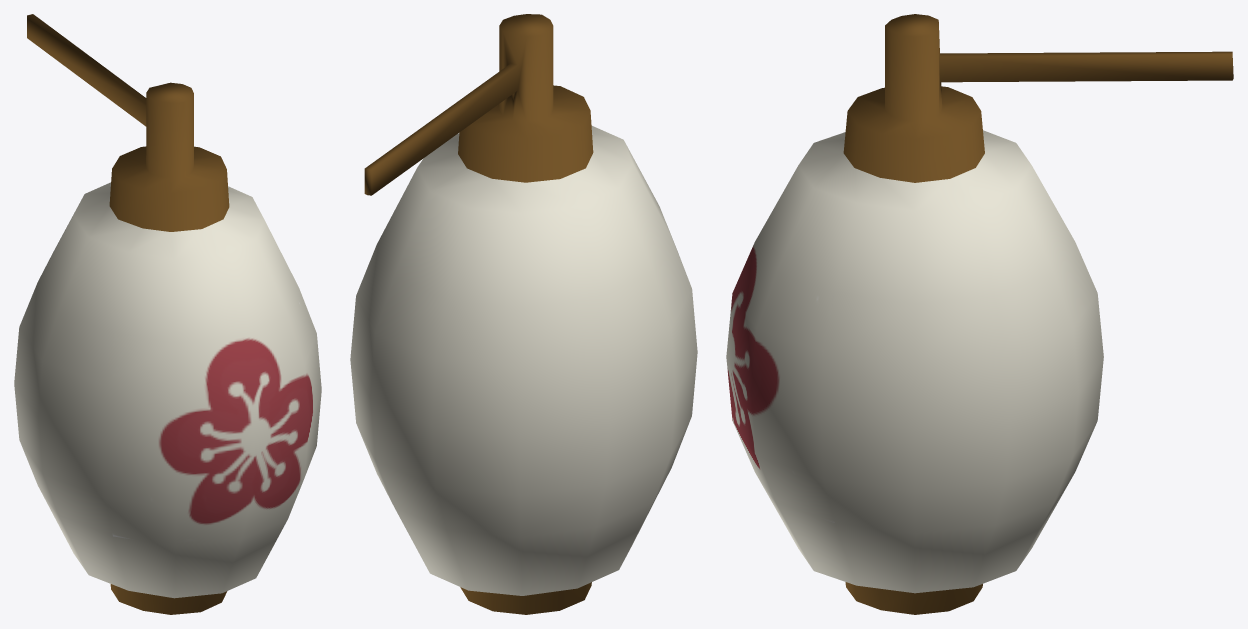
Rendered from Lantern_Flower.gltf.
3 renders of one model, left to right at view 1: azimuth 30°, elevation 25°; view 2: azimuth 150°, elevation 25°; view 3: azimuth 270°, elevation 25°, orthographic. The views are drawn at different scales.
Parts seen in each view (by area): view 1: Lantern_Flower; view 2: Lantern_Flower; view 3: Lantern_Flower.
Boxes of the visible parts, <box> form: Lantern_Flower: <box>14,14,321,614</box>; Lantern_Flower: <box>350,14,697,614</box>; Lantern_Flower: <box>726,14,1233,614</box>.
Bounding box in the file's own units: 0.3536 × 0.6356 × 0.5203.
1 material, 1 textured.
